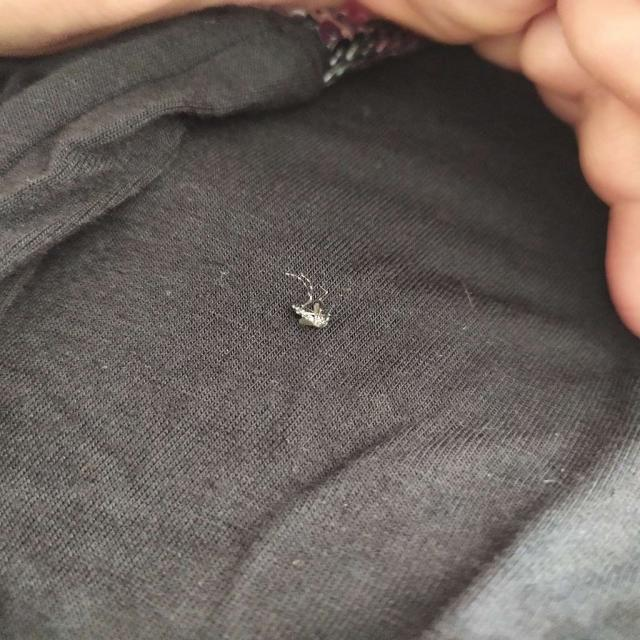albopictus: (272, 266, 348, 330)
